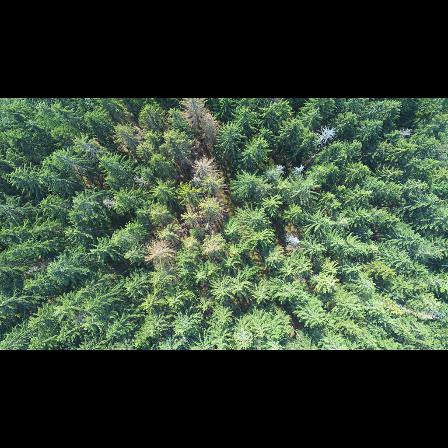Dead: (179, 99, 218, 143), (143, 241, 174, 269), (312, 121, 337, 151), (193, 157, 217, 177), (284, 229, 305, 249), (290, 163, 307, 178), (133, 174, 150, 187), (102, 195, 114, 211)
